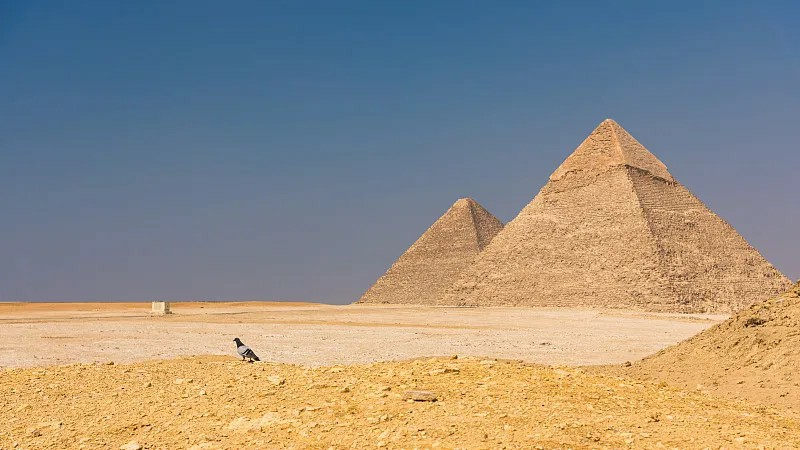Pyramid: (437, 116, 800, 315), (352, 197, 505, 302)
